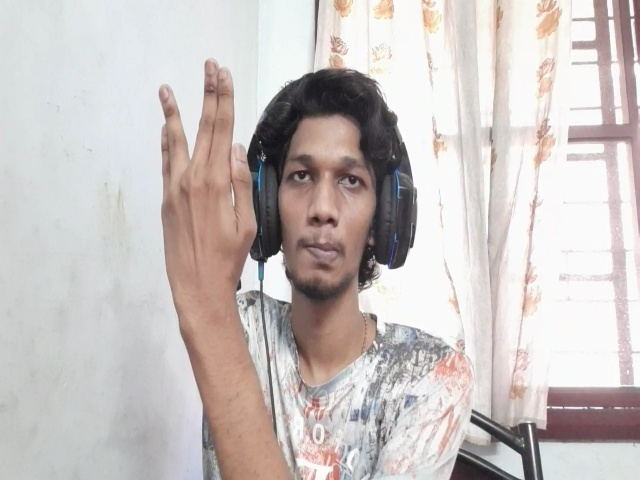LiveLong: (158, 58, 257, 316)
